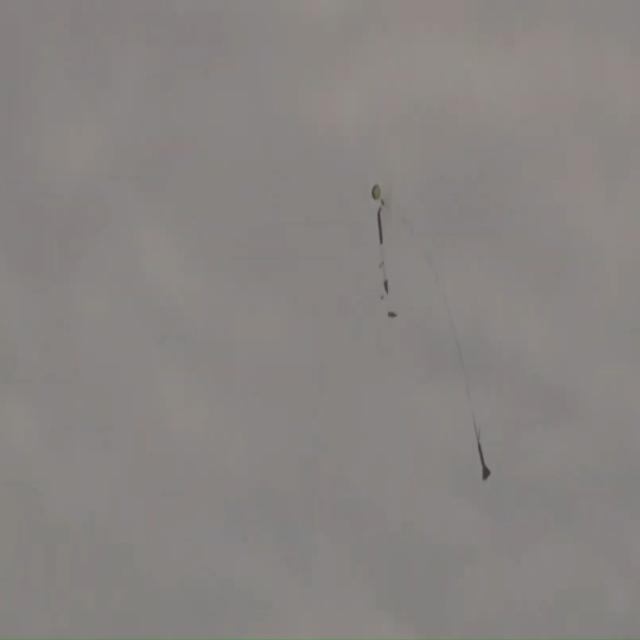Rocket: (478, 442, 490, 480)
